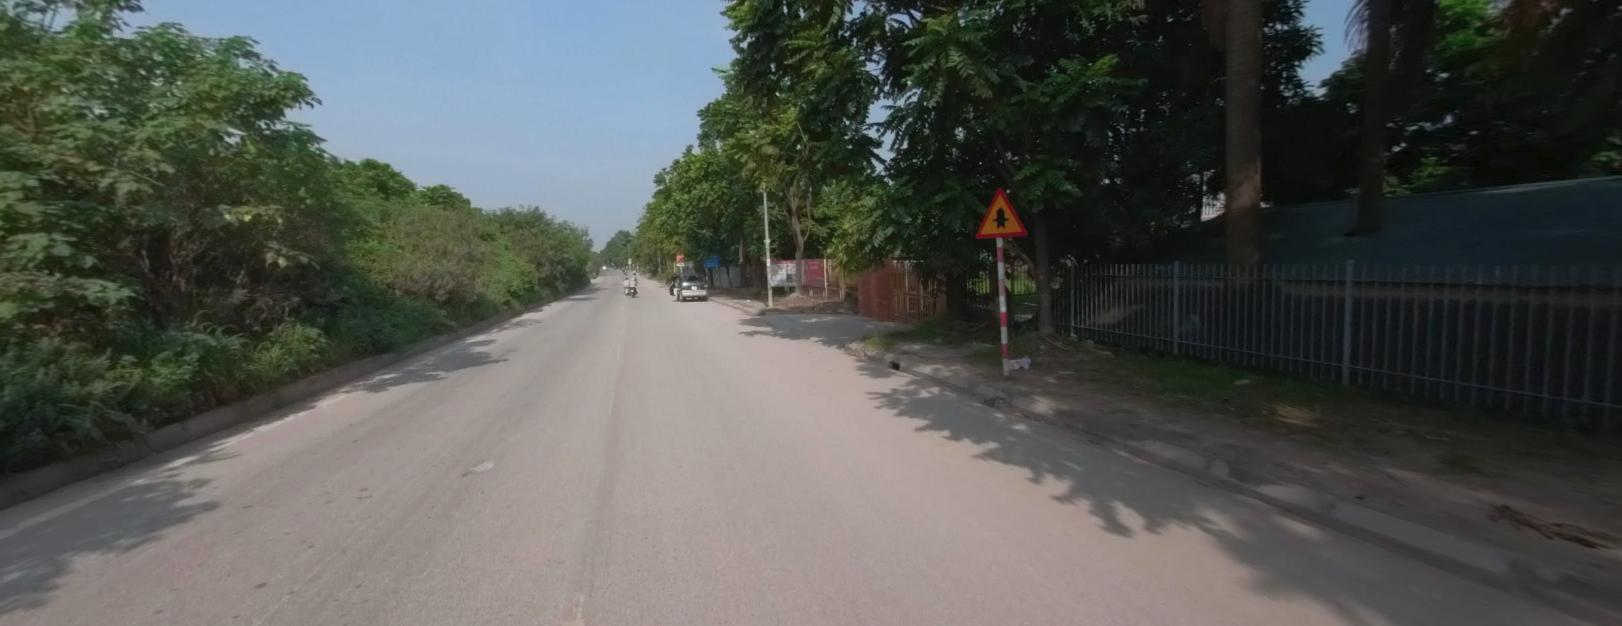Nguy hiem: (975, 186, 1028, 236)
